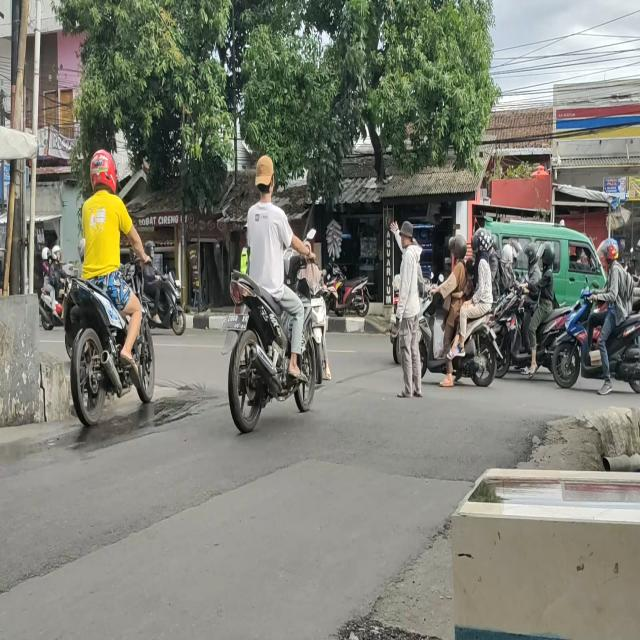helmet: (91, 152, 112, 182), (476, 228, 489, 253), (453, 234, 466, 258), (604, 237, 617, 259), (544, 242, 554, 263), (527, 242, 537, 262), (146, 243, 155, 257)
no-helmet: (255, 156, 274, 198), (467, 258, 472, 274)
